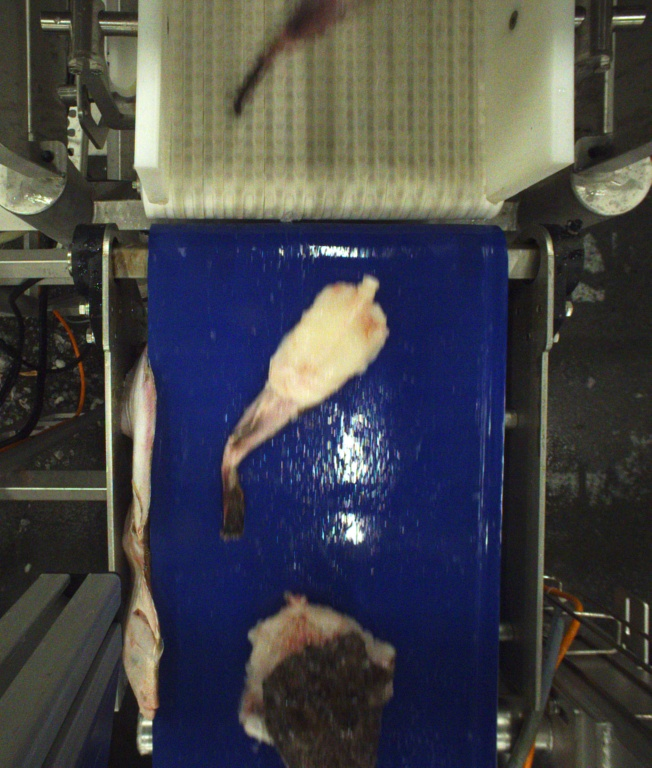ANF: (223, 275, 393, 537)
